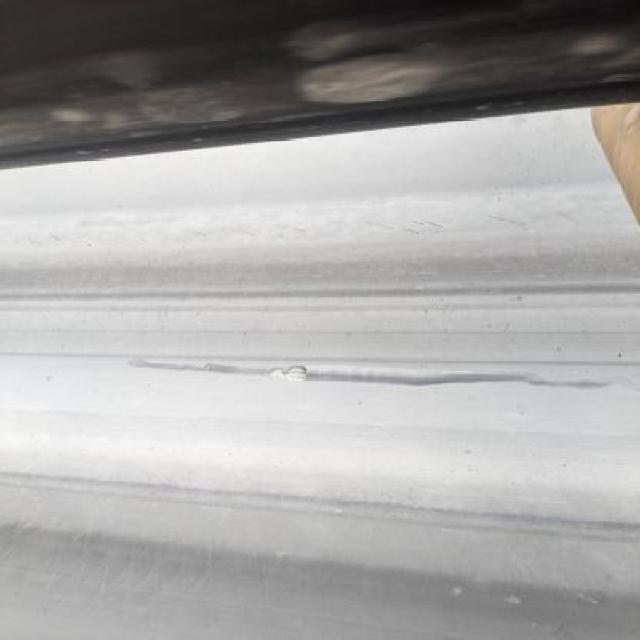Impact Damage: (265, 359, 313, 384)
